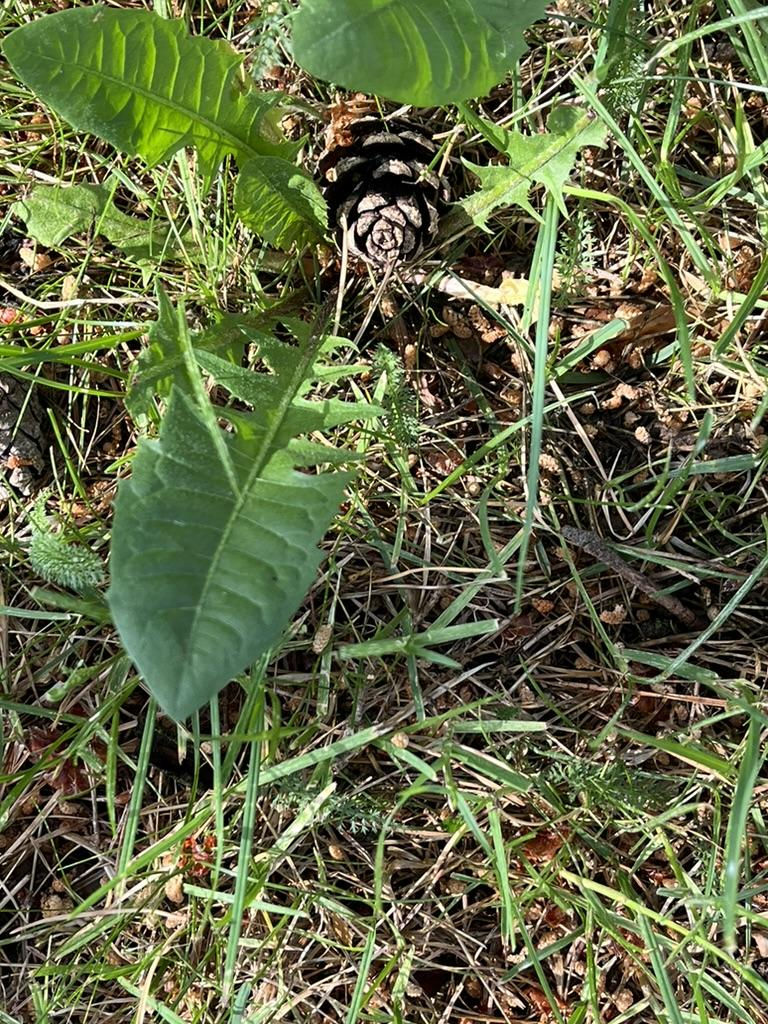pine: (296, 100, 454, 283), (0, 325, 63, 520)
